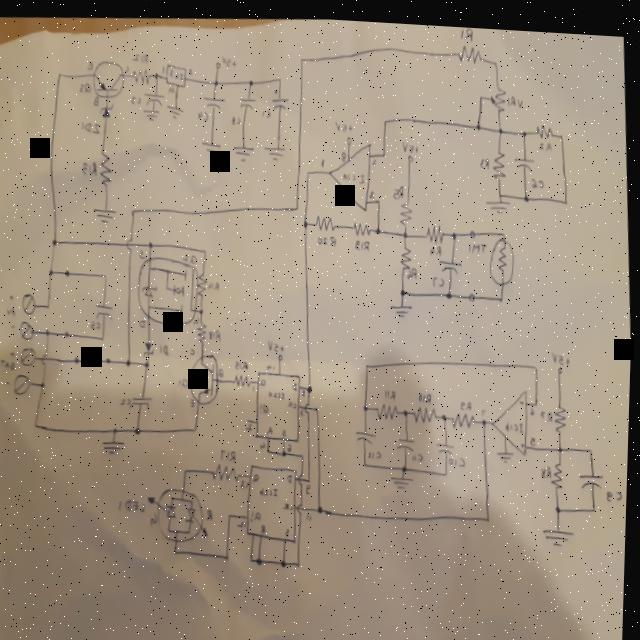capacitor: (580, 463, 607, 483), (271, 82, 290, 108), (202, 91, 228, 109), (356, 423, 380, 442), (131, 391, 156, 409), (143, 88, 167, 106), (436, 433, 457, 453), (96, 300, 116, 320), (398, 429, 418, 449), (440, 252, 464, 268), (514, 148, 535, 166), (238, 92, 257, 109)
crossover: (126, 235, 135, 249), (42, 350, 50, 365), (299, 497, 306, 509), (305, 397, 312, 408), (300, 468, 306, 479)
diode: (150, 483, 212, 540), (98, 97, 117, 119), (143, 337, 158, 357)
ground: (544, 517, 578, 541), (92, 204, 119, 224), (485, 190, 513, 209), (232, 139, 256, 160), (392, 468, 417, 488), (390, 296, 416, 315), (264, 140, 287, 160), (103, 436, 128, 454), (202, 136, 223, 156), (142, 104, 162, 121), (166, 100, 184, 118), (497, 442, 516, 457)
junction: (451, 224, 459, 234), (198, 303, 206, 313), (153, 67, 160, 78), (283, 554, 290, 565), (41, 378, 48, 389), (375, 220, 382, 231), (319, 499, 326, 509), (52, 236, 59, 245), (127, 355, 133, 365), (303, 214, 309, 224), (401, 281, 407, 291), (404, 402, 410, 412), (46, 326, 52, 336), (557, 496, 563, 506), (247, 74, 254, 82), (593, 497, 600, 505), (148, 238, 155, 246), (497, 119, 503, 128), (475, 116, 481, 125), (131, 205, 137, 214), (308, 380, 314, 389), (403, 224, 409, 233), (194, 421, 200, 430), (478, 86, 484, 95), (483, 410, 489, 419), (136, 424, 143, 431), (559, 437, 565, 445), (49, 266, 55, 274), (213, 75, 219, 83), (145, 358, 151, 366), (487, 508, 493, 516), (381, 145, 387, 153), (259, 553, 265, 561), (376, 192, 382, 200), (447, 285, 453, 293), (106, 355, 112, 363), (443, 407, 449, 415), (306, 163, 311, 172), (383, 111, 388, 120), (498, 184, 504, 191), (590, 439, 595, 447), (499, 288, 504, 296), (299, 51, 304, 59), (493, 52, 498, 60), (559, 125, 564, 133), (564, 190, 569, 198), (57, 69, 62, 77), (535, 392, 540, 400), (365, 397, 370, 405), (66, 267, 71, 275), (76, 354, 81, 362), (523, 188, 529, 194), (283, 446, 289, 452), (295, 200, 300, 207), (277, 71, 282, 78), (523, 123, 527, 131), (177, 545, 181, 553), (365, 455, 369, 463), (66, 328, 70, 336), (366, 357, 371, 363), (316, 401, 321, 407), (47, 301, 51, 308), (299, 556, 303, 563), (227, 550, 231, 557), (105, 271, 109, 278), (204, 244, 208, 251), (535, 356, 539, 363), (251, 552, 255, 559), (268, 443, 272, 450), (446, 464, 450, 470), (185, 464, 189, 470), (230, 509, 234, 515), (102, 333, 106, 339), (404, 460, 410, 464), (502, 224, 506, 228), (116, 425, 119, 430), (310, 473, 313, 478), (303, 449, 306, 454), (37, 420, 40, 424)
resistor: (490, 230, 517, 278), (98, 146, 114, 187), (213, 458, 241, 479), (452, 403, 479, 424), (490, 142, 507, 175), (413, 398, 439, 418), (377, 395, 401, 416), (489, 79, 507, 107), (457, 39, 482, 59), (552, 452, 567, 483), (398, 193, 414, 221), (130, 63, 151, 84), (426, 216, 446, 238), (399, 238, 414, 267), (555, 395, 569, 426), (315, 209, 336, 229), (534, 116, 554, 133), (233, 368, 254, 384), (353, 215, 372, 231), (197, 318, 209, 341), (198, 268, 208, 295)
terminal: (14, 372, 34, 395), (22, 290, 38, 314), (22, 346, 38, 365), (21, 319, 35, 339), (345, 132, 353, 141), (469, 285, 476, 295), (406, 148, 413, 157), (558, 358, 565, 366), (215, 57, 221, 65), (279, 348, 284, 357), (471, 224, 475, 232), (249, 413, 251, 417)
text: (342, 163, 367, 181), (119, 496, 148, 510), (467, 233, 489, 249), (333, 113, 355, 129), (81, 118, 101, 134), (260, 480, 282, 494), (81, 156, 98, 174), (607, 479, 626, 495), (505, 412, 526, 426), (506, 86, 524, 102), (318, 229, 338, 243), (552, 343, 572, 357), (220, 444, 238, 459), (450, 448, 469, 462), (0, 357, 19, 371), (354, 233, 371, 248), (181, 250, 198, 265), (384, 380, 399, 397), (402, 135, 420, 149), (167, 65, 185, 79), (392, 177, 405, 196), (541, 400, 556, 416), (269, 335, 286, 349), (131, 49, 149, 62), (458, 21, 473, 36), (235, 354, 251, 368), (419, 384, 435, 398), (220, 51, 236, 65), (269, 384, 287, 396), (209, 324, 223, 339), (77, 79, 92, 93), (432, 268, 446, 282), (531, 168, 545, 182), (196, 105, 210, 119), (538, 132, 553, 145), (369, 443, 385, 455), (430, 238, 443, 252), (461, 392, 475, 405), (479, 149, 491, 164), (542, 456, 553, 472), (407, 260, 418, 275), (230, 110, 242, 123), (208, 277, 221, 289), (160, 340, 172, 353), (252, 506, 264, 519), (7, 304, 18, 318), (137, 245, 147, 260), (239, 515, 251, 527), (288, 394, 300, 406), (414, 445, 427, 456), (91, 317, 102, 329), (261, 104, 272, 116), (179, 374, 191, 385), (284, 496, 296, 507), (152, 507, 160, 523), (131, 92, 142, 103), (121, 394, 133, 404), (260, 373, 270, 385), (208, 507, 217, 519), (261, 397, 270, 409), (254, 468, 263, 479), (262, 519, 270, 531), (531, 427, 539, 439), (340, 145, 347, 158), (93, 93, 100, 106), (369, 184, 377, 195), (286, 521, 294, 532), (260, 437, 268, 447), (268, 420, 276, 430), (307, 479, 314, 490), (123, 62, 130, 73), (191, 395, 198, 406), (307, 506, 314, 517), (482, 399, 489, 410), (243, 475, 251, 484), (530, 399, 537, 409), (86, 59, 93, 69), (190, 344, 197, 354), (293, 378, 300, 388), (289, 469, 296, 479), (268, 357, 276, 365), (167, 81, 174, 90), (141, 316, 147, 326), (248, 418, 254, 428), (220, 364, 225, 375), (10, 292, 16, 301), (521, 390, 527, 399), (321, 153, 326, 163), (11, 347, 16, 356), (7, 379, 13, 386), (289, 438, 294, 446), (189, 64, 193, 73), (373, 153, 377, 161), (284, 424, 288, 432), (522, 433, 526, 441), (161, 65, 164, 73), (12, 323, 16, 329), (302, 403, 305, 411), (253, 380, 256, 386), (304, 385, 306, 389)
transistor: (135, 247, 204, 327), (190, 349, 222, 402), (90, 53, 125, 98)
